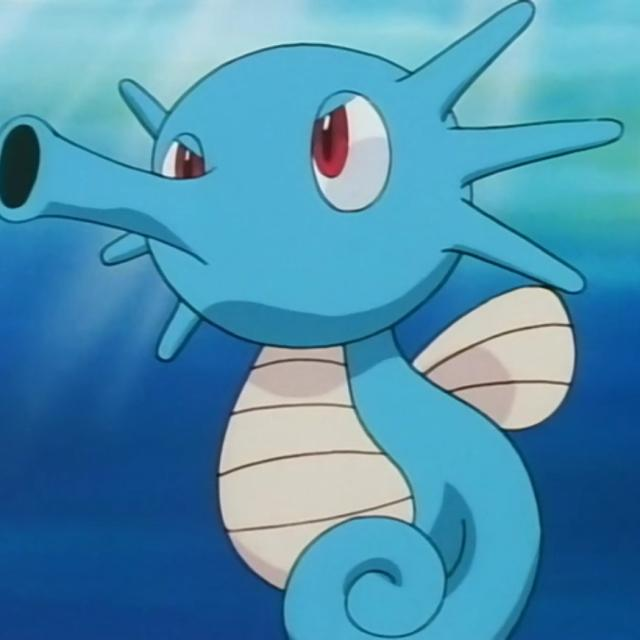Horsea: (135, 18, 611, 590)
